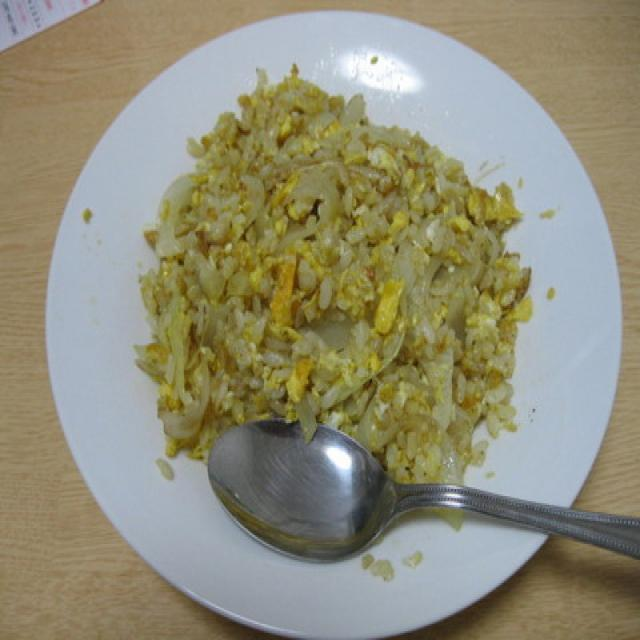米饭主食: (43, 10, 625, 640)
